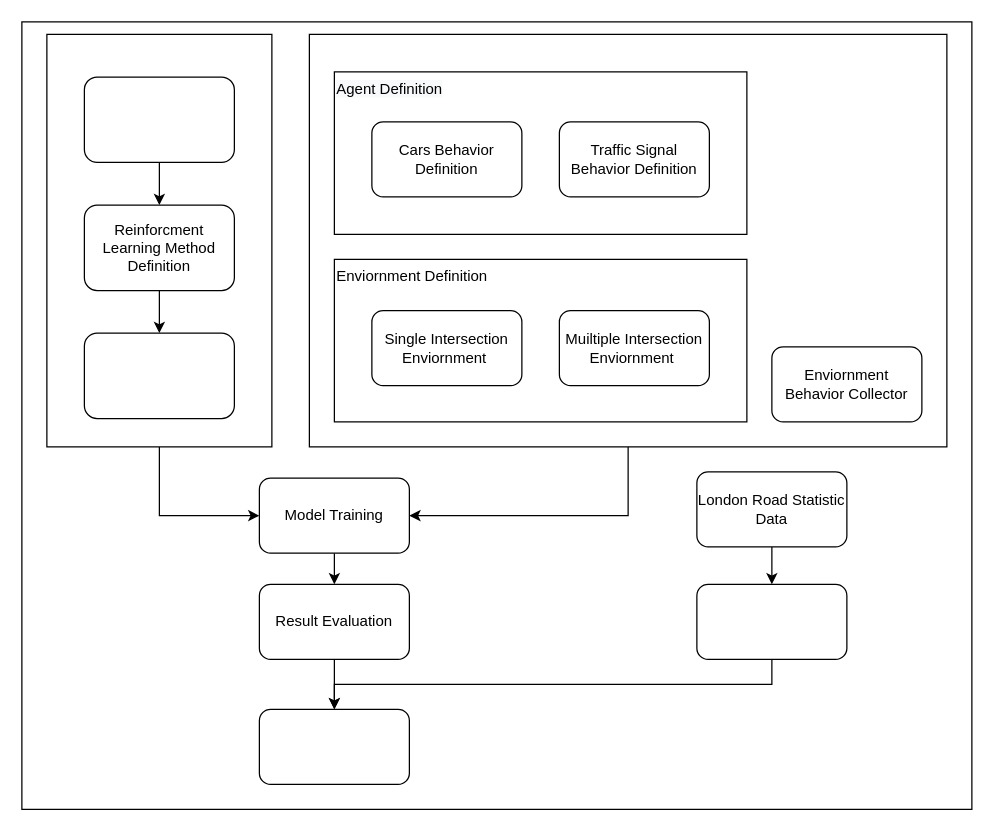
Some shapes in this 994 by 831 pixel diagram are drawn without their labels. Each missing label, with the box of its shape:
Agent-based Model: (308, 33, 947, 447)
Extending to the London Network: (258, 708, 409, 784)
Mathmetic Explaination: (83, 76, 234, 162)
Model Fine-tuning: (696, 583, 847, 659)
Reinforcement Learning: (46, 33, 272, 447)
Reward Function Definition: (83, 332, 234, 418)
